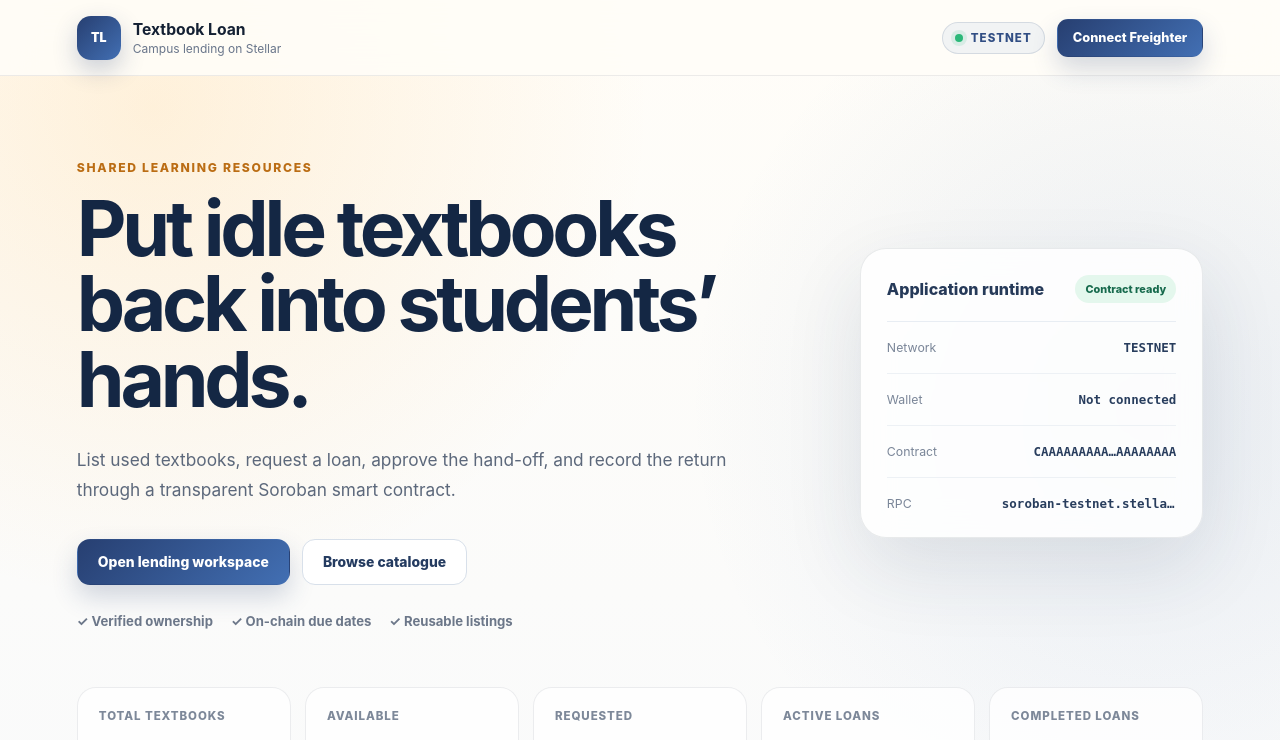
Textbook Loan dashboard › displays a wallet connection error
Step 1. Click the button "Connect Freighter" → (1130, 38), box top-left (1057, 18), bottom-right (1203, 56)
(page scrolled)
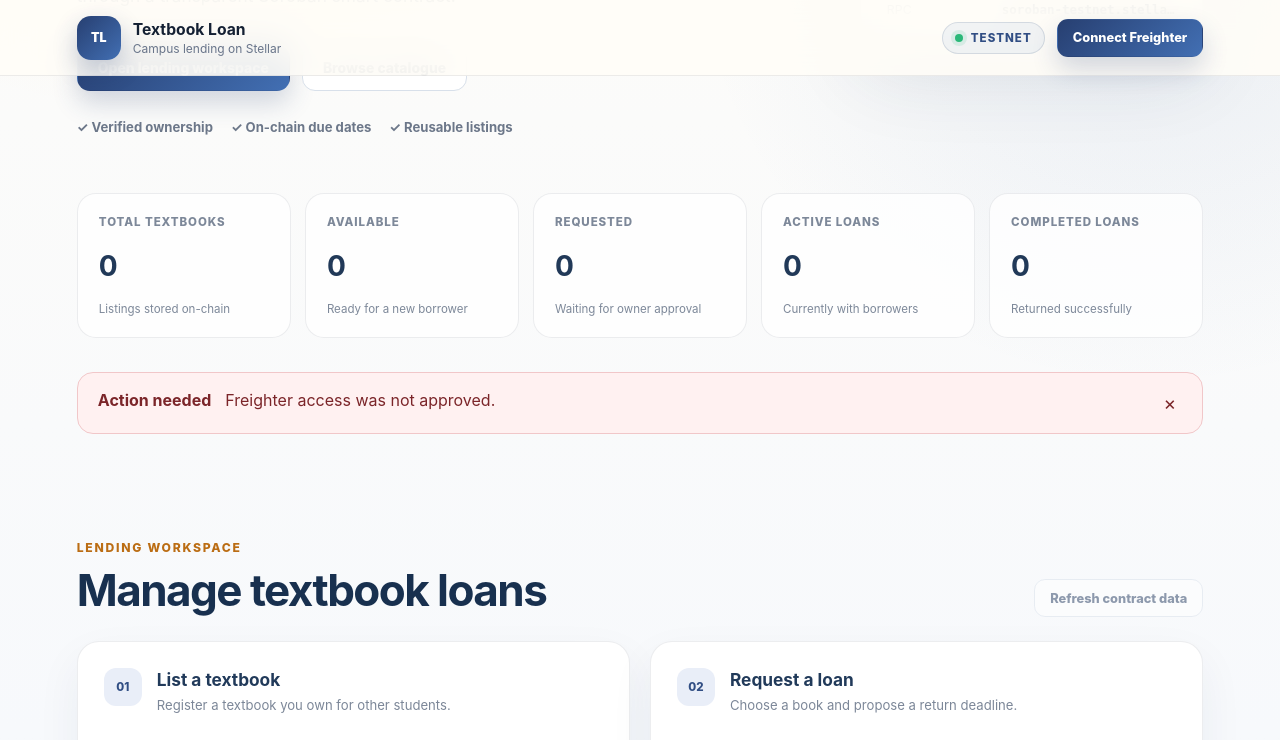
expect the text "Freighter access was not approved." is shown: met, box top-left (225, 390), bottom-right (495, 410)
